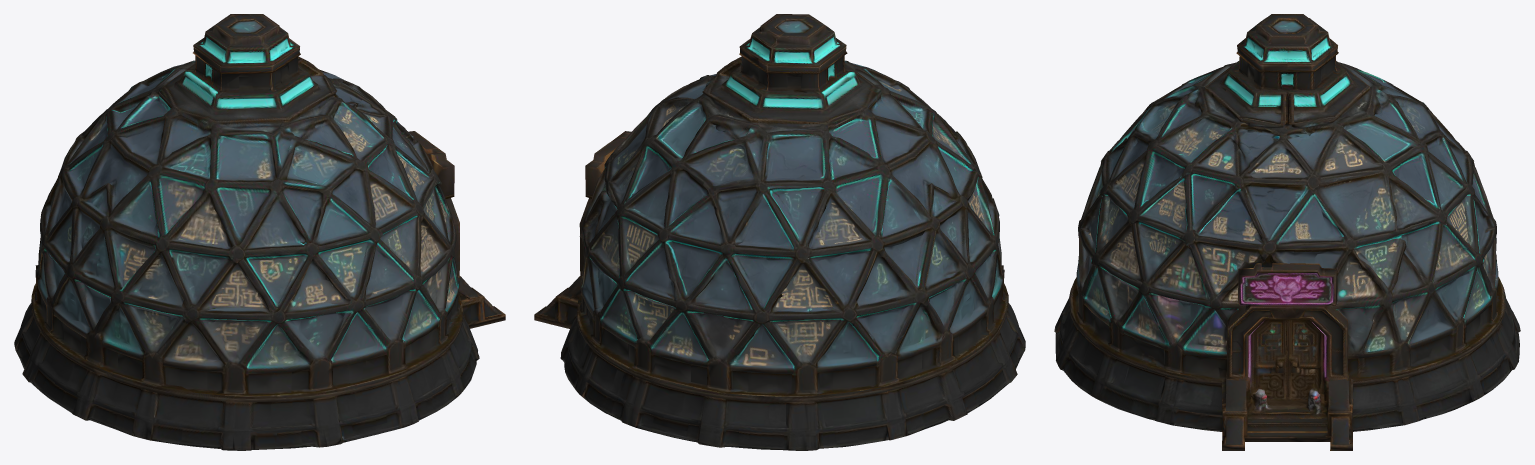
Rendered from DOMO_FBX.fbx.
The picture shows the model from 3 angles, left to right: view 1: azimuth 30°, elevation 25°; view 2: azimuth 150°, elevation 25°; view 3: azimuth 270°, elevation 25°; orthographic projection. The views are drawn at different scales.
Parts seen in each view (by area): view 1: tripo_node_bf190513; view 2: tripo_node_bf190513; view 3: tripo_node_bf190513.
Boxes of the visible parts, x1,y1,x2,y2 form: tripo_node_bf190513: (14, 14, 505, 450); tripo_node_bf190513: (534, 14, 1025, 450); tripo_node_bf190513: (1054, 14, 1520, 450).
Bounding box in the file's own units: 99.88 × 73.38 × 97.56.
1 material, 1 textured.
